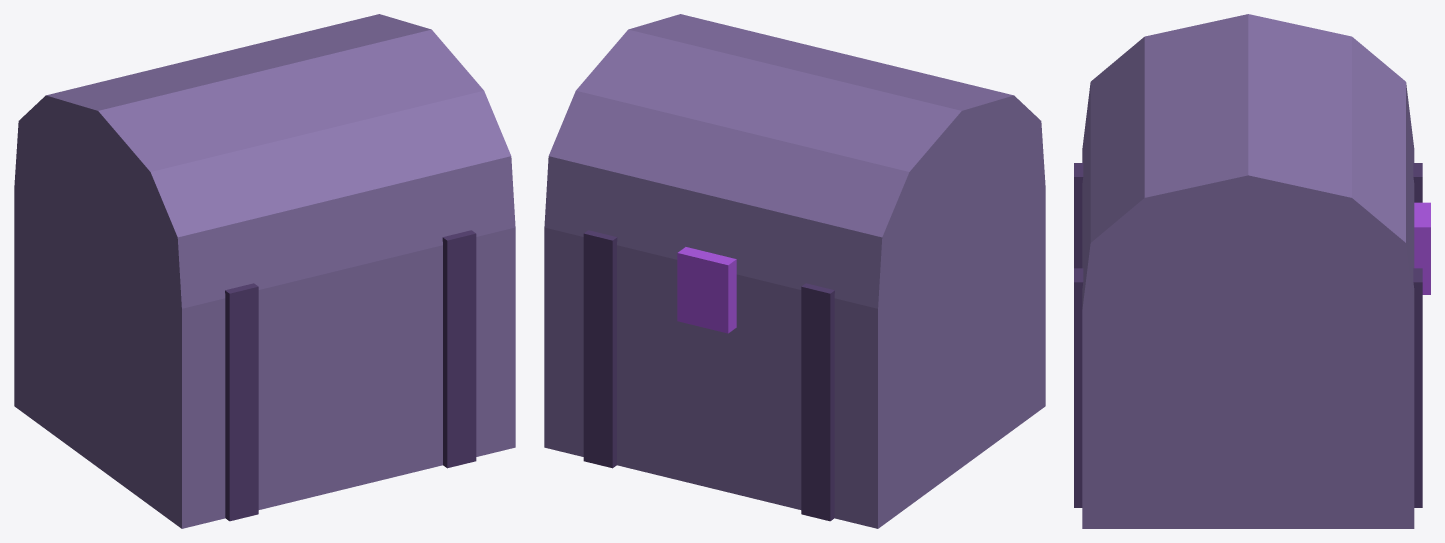
The model's file is corruption_chest_v0.glb.
3 renders of one model, left to right at view 1: azimuth 30°, elevation 25°; view 2: azimuth 150°, elevation 25°; view 3: azimuth 270°, elevation 25°, orthographic.
Visible parts, largest first — view 1: corruption_chest_v0; view 2: corruption_chest_v0; view 3: corruption_chest_v0.
Boxes of the visible parts, x1,y1,x2,y2 form: corruption_chest_v0: (14, 14, 515, 528); corruption_chest_v0: (544, 14, 1045, 528); corruption_chest_v0: (1074, 14, 1430, 528).
Size of the model in its own units: 0.92 by 0.94 by 0.86.
